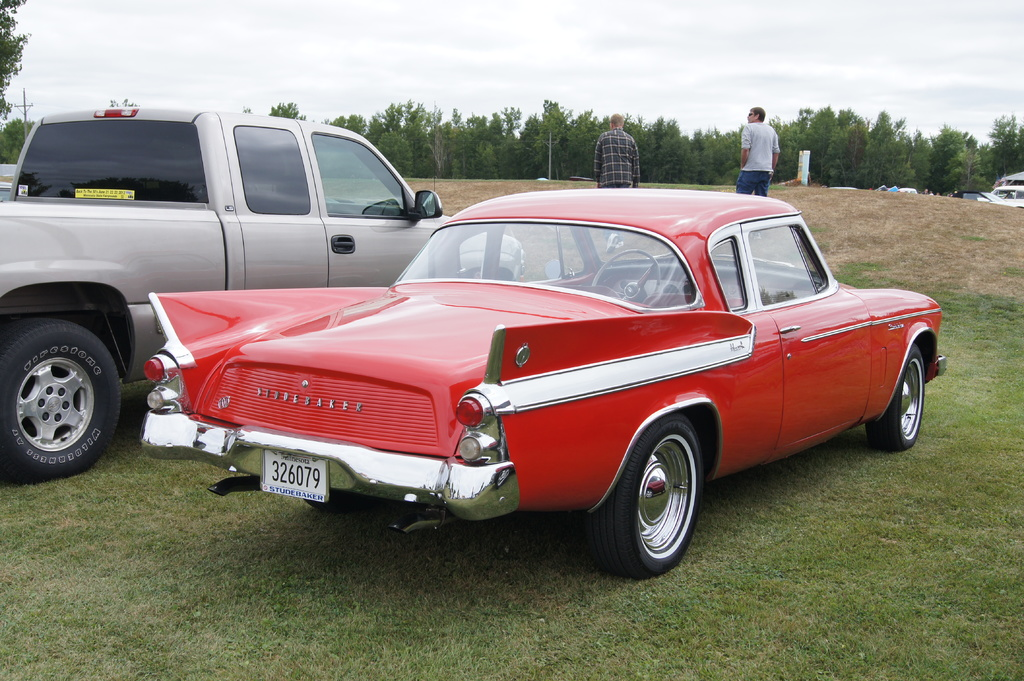Car: (135, 183, 960, 574), (950, 186, 1016, 209), (989, 184, 1023, 202), (996, 171, 1023, 184), (884, 186, 919, 194)
